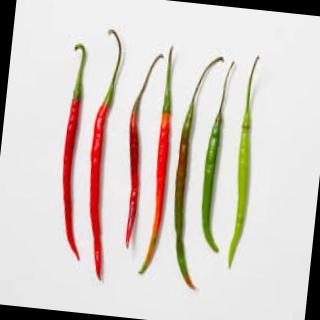Cabai Hijau: (162, 103, 210, 293), (228, 113, 259, 259), (195, 107, 225, 248)
Cabai Merah: (51, 96, 92, 260), (81, 101, 112, 254), (117, 111, 150, 249), (148, 115, 173, 238)
